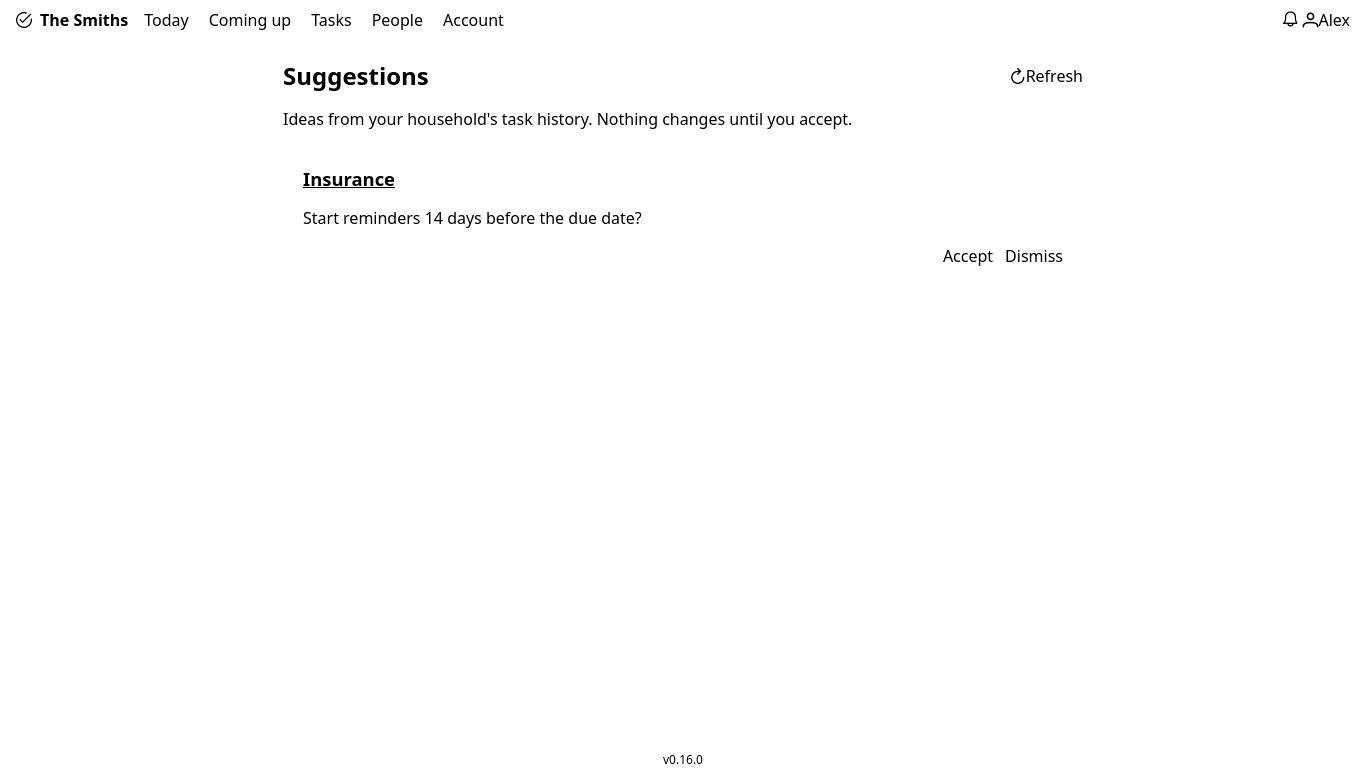
suggestions inbox › shows stale-action errors and lets the user refresh
The image size is (1366, 768).
Step 1. Click the button "Accept" → (968, 256), box top-left (943, 245), bottom-right (993, 267)
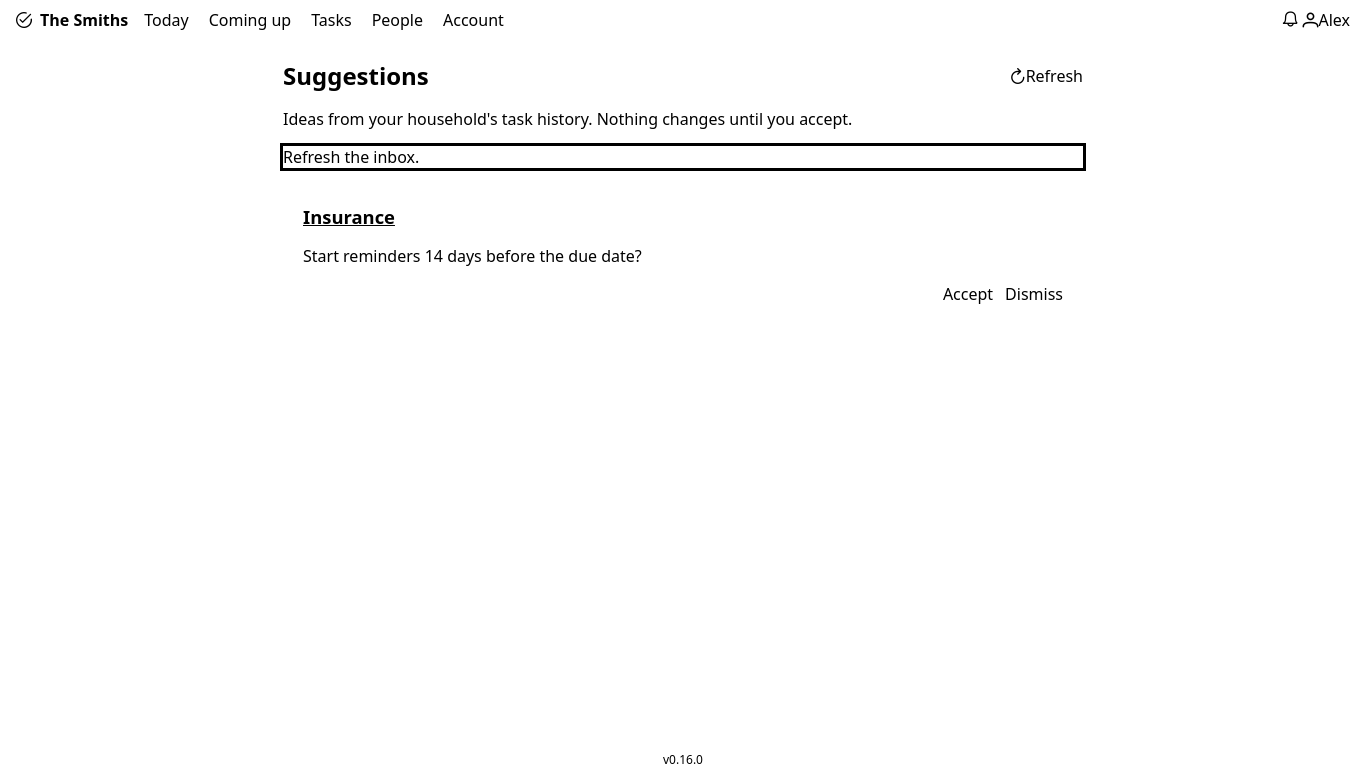
Now the message "Refresh the inbox." is shown, box top-left (283, 146), bottom-right (419, 168)
Step 2. Click the button "Refresh" → (1046, 76), box top-left (1010, 64), bottom-right (1083, 86)
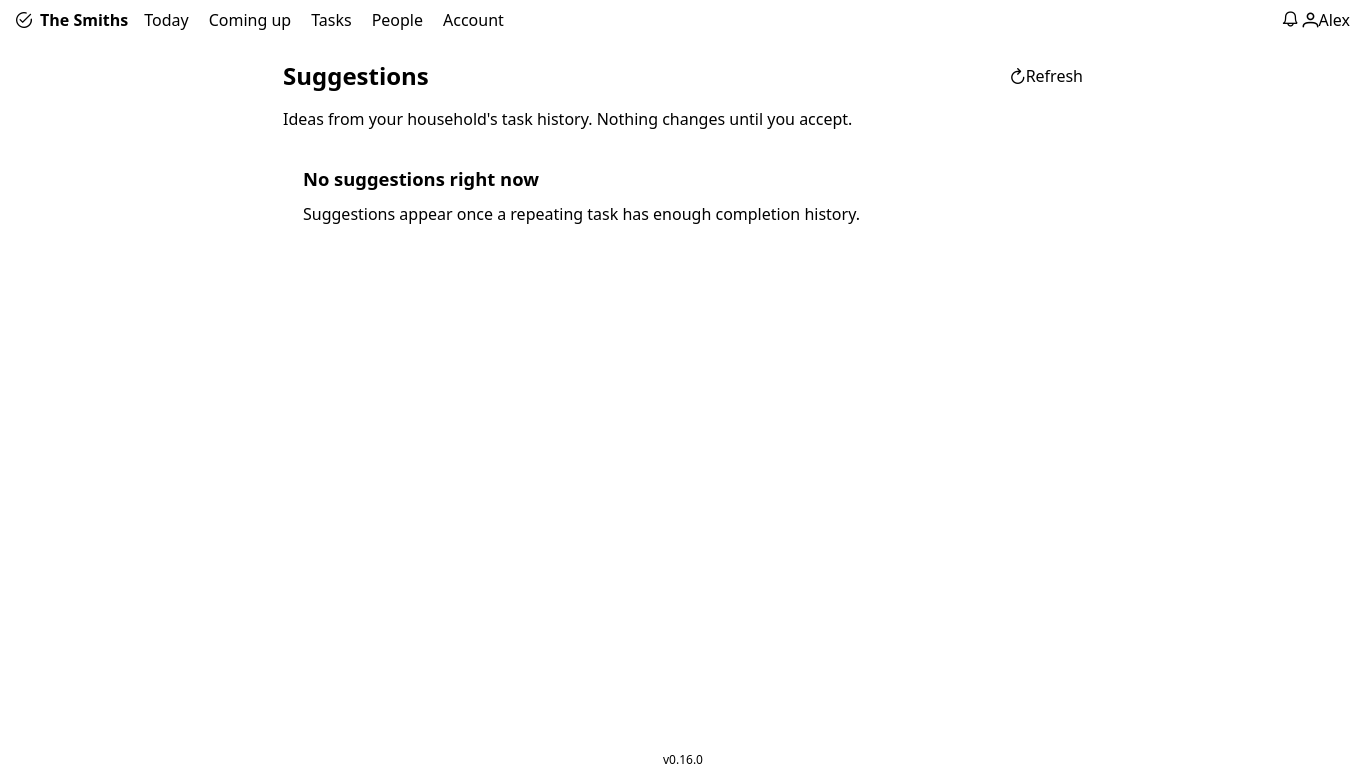
Now the text "No suggestions right now" is shown, box top-left (303, 166), bottom-right (539, 191)
